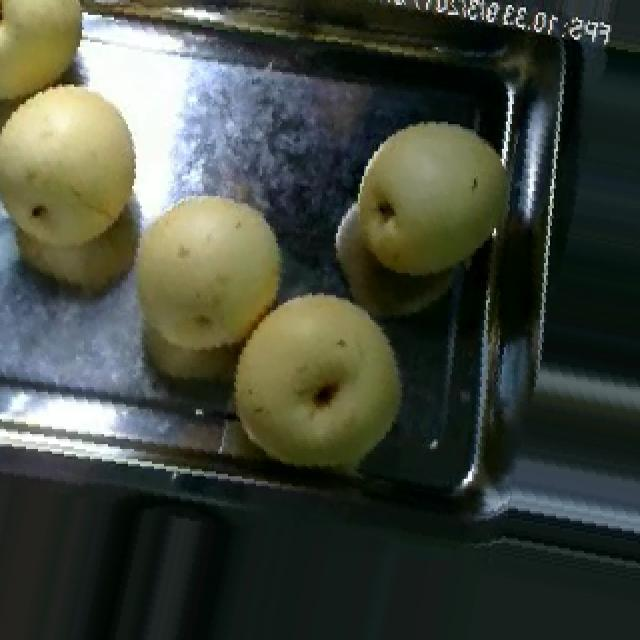Fruit: (204, 266, 416, 482), (106, 176, 308, 382), (314, 109, 516, 308), (0, 64, 154, 268)
